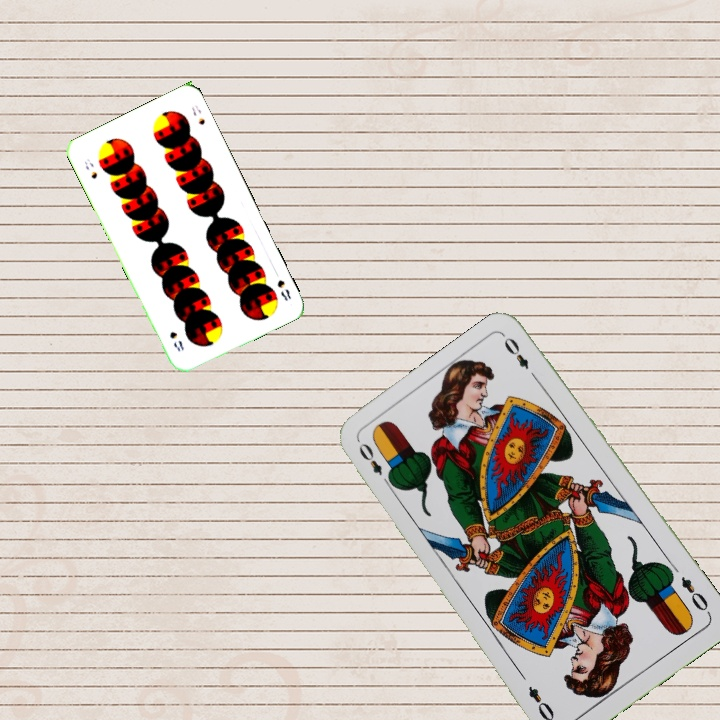EO: (354, 438, 395, 490), (677, 572, 713, 617)
S8: (273, 276, 294, 304), (81, 154, 100, 181)
